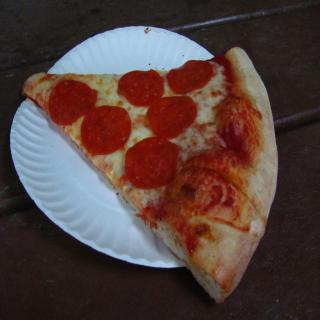Pizza: (20, 44, 278, 303)
